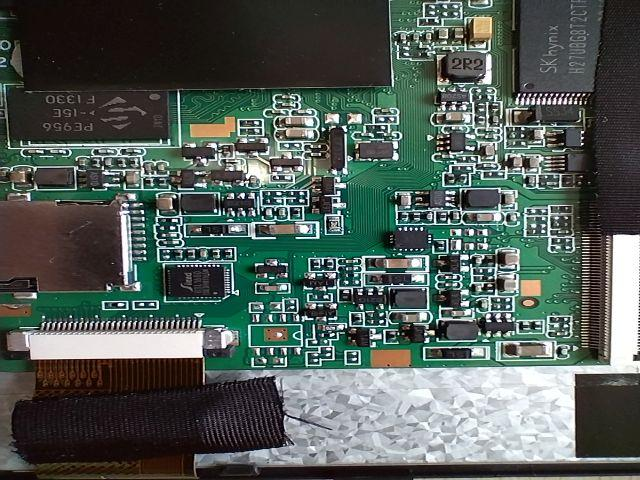capacitor: (501, 340, 559, 362), (368, 255, 422, 270), (154, 187, 180, 213), (243, 282, 298, 294), (3, 164, 31, 184), (258, 224, 311, 234), (436, 111, 469, 124), (124, 166, 144, 186), (502, 245, 519, 266), (279, 116, 313, 126), (473, 212, 497, 224), (285, 130, 314, 139), (503, 154, 521, 168), (528, 154, 540, 172), (501, 278, 516, 292), (506, 193, 518, 209), (452, 310, 466, 318)
resistor: (372, 105, 401, 115), (384, 332, 402, 347), (370, 117, 400, 125), (305, 257, 320, 272), (432, 239, 448, 253), (172, 247, 185, 263), (88, 154, 101, 170), (238, 128, 261, 137), (154, 176, 170, 188), (225, 244, 234, 264), (211, 250, 222, 266), (272, 174, 294, 182), (320, 332, 340, 340), (327, 256, 336, 272), (434, 208, 446, 220), (126, 158, 140, 168), (412, 210, 422, 224), (446, 176, 460, 186), (239, 119, 261, 125), (144, 175, 154, 188), (397, 212, 410, 222), (350, 315, 364, 324), (187, 247, 195, 260), (344, 273, 362, 278), (117, 159, 124, 169)
